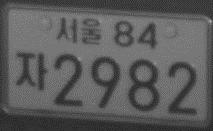2: (52, 53, 84, 107), (167, 60, 197, 116)
4: (136, 21, 157, 50)
8: (127, 57, 160, 112), (113, 19, 133, 48)
9: (90, 56, 120, 108)
서울_H: (55, 16, 101, 46)
자: (14, 50, 47, 91)
